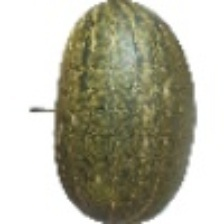honeydew: (35, 10, 197, 199)
